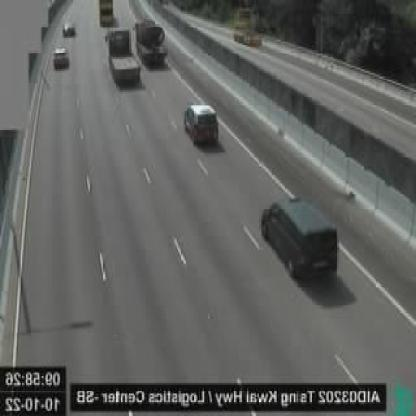Car: (262, 196, 338, 284), (184, 101, 219, 144), (51, 48, 68, 70), (63, 21, 76, 36)
Truck: (104, 21, 139, 80), (135, 17, 167, 66)
